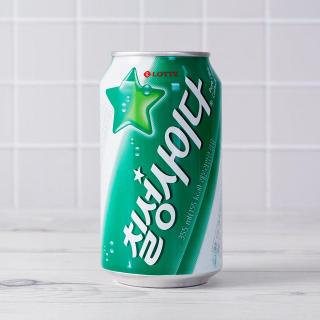cocacola: (97, 47, 225, 290)
